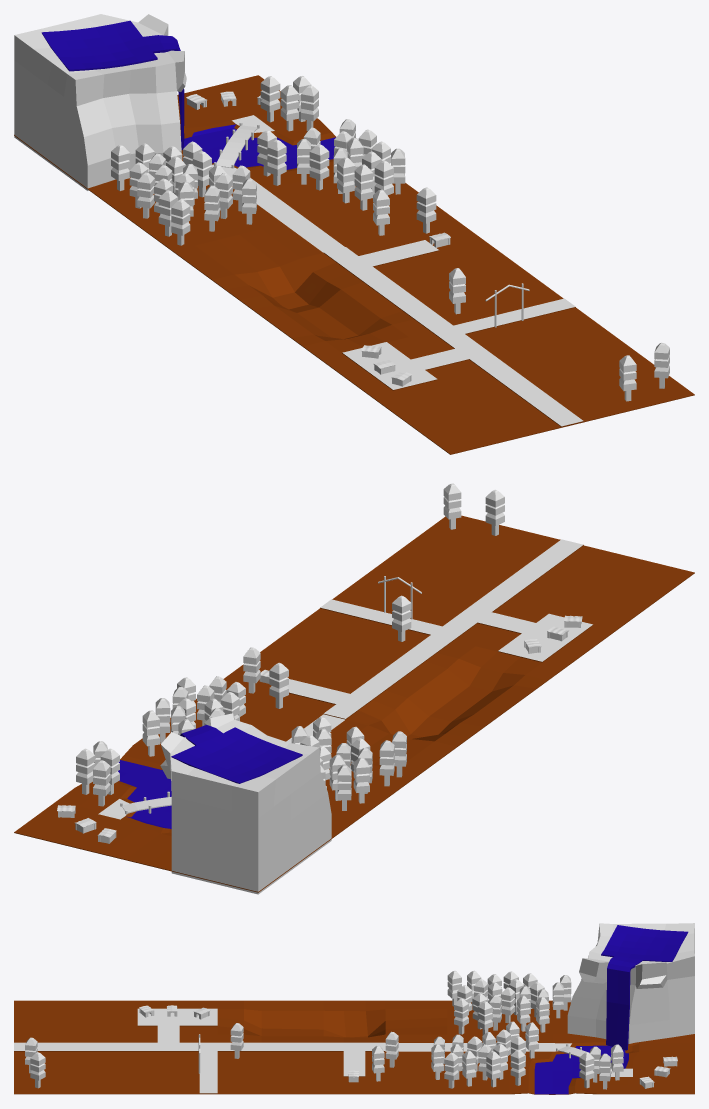
File: Blocagem_2 1.fbx
3 views of the same model, one above another, from view 1: azimuth 30°, elevation 25°; view 2: azimuth 150°, elevation 25°; view 3: azimuth 270°, elevation 25° (orthographic). The views are drawn at different scales.
Visible parts, largest first — view 1: Blocagem; view 2: Blocagem; view 3: Blocagem.
Boxes of the visible parts, left/top/right/bottom form: Blocagem: left=14, top=14, right=694, bottom=454; Blocagem: left=14, top=483, right=694, bottom=894; Blocagem: left=14, top=923, right=694, bottom=1094.
Size of the model in its own units: 11000 by 5585 by 34000.
